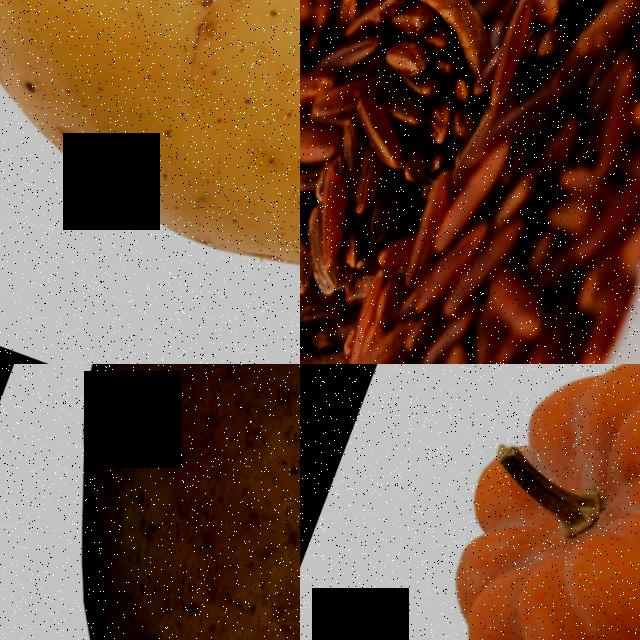potato: (0, 0, 300, 364), (0, 364, 300, 640)
pumpkin: (368, 364, 640, 640)
red rice: (300, 0, 640, 364), (300, 0, 513, 364)
